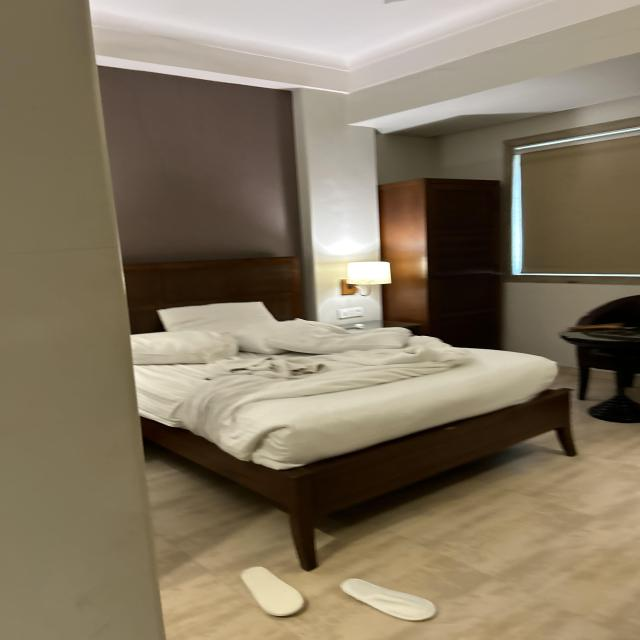mess: (122, 313, 604, 464), (127, 527, 483, 637)
